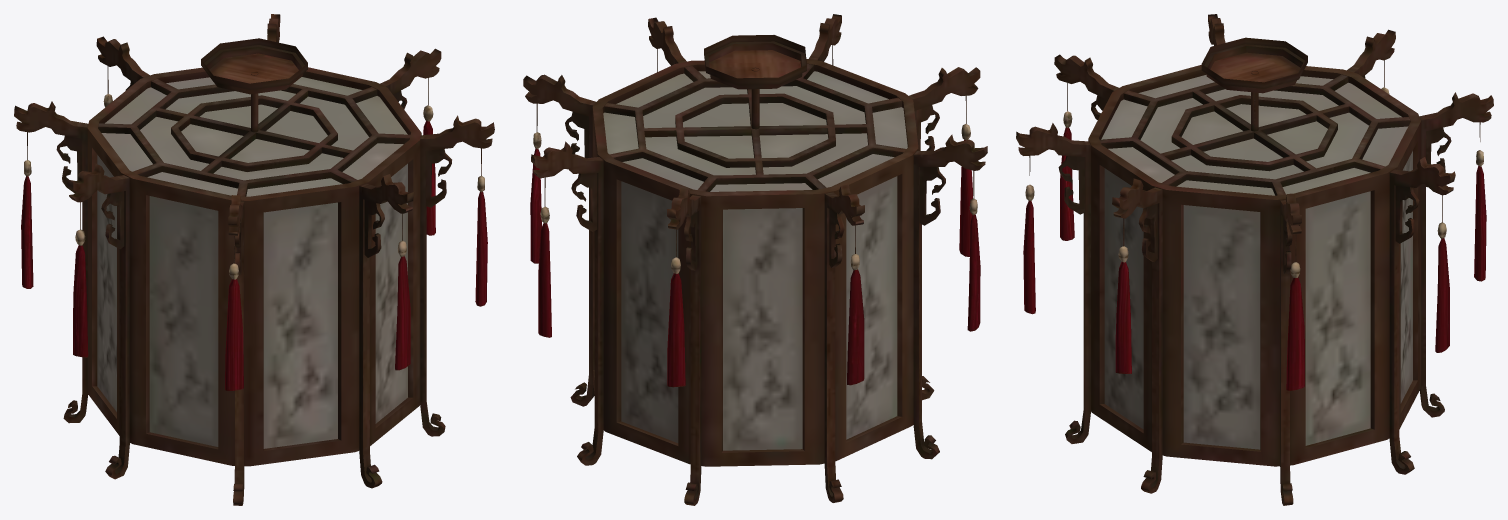
Rendered from pendant-lantern.glb.
3 renders of one model, left to right at view 1: azimuth 30°, elevation 25°; view 2: azimuth 150°, elevation 25°; view 3: azimuth 270°, elevation 25°, orthographic.
Visible parts, largest first — view 1: chinese_chandelier; view 2: chinese_chandelier; view 3: chinese_chandelier.
Part boxes in pixels (x1,y1,x2,y2): chinese_chandelier: (14,14,494,505); chinese_chandelier: (523,14,987,505); chinese_chandelier: (1016,14,1493,505).
Bounding box in the file's own units: 0.8777 × 0.7478 × 0.878.
Materials: 1 (1 with a texture image).
